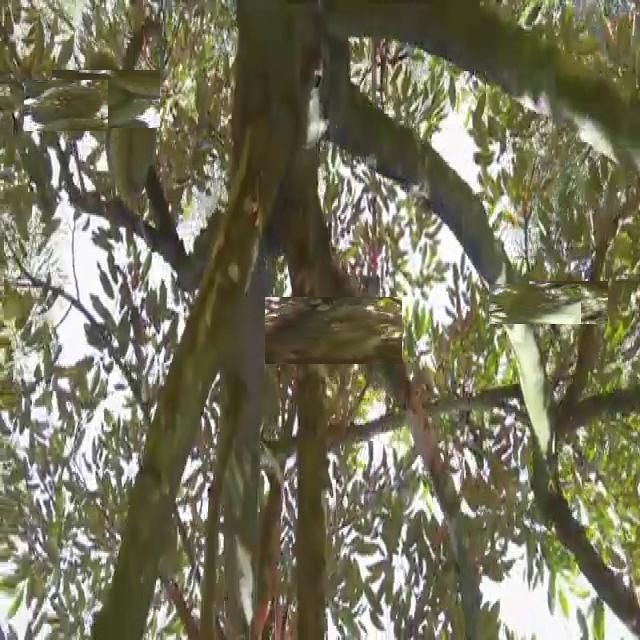durian: (282, 279, 385, 381), (64, 57, 148, 140), (104, 100, 166, 210), (32, 72, 100, 140), (502, 270, 568, 337), (538, 271, 599, 333)
